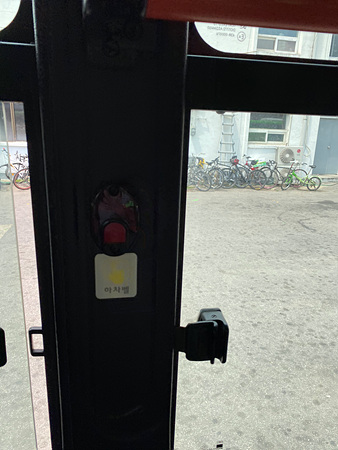bell: (91, 182, 138, 255)
